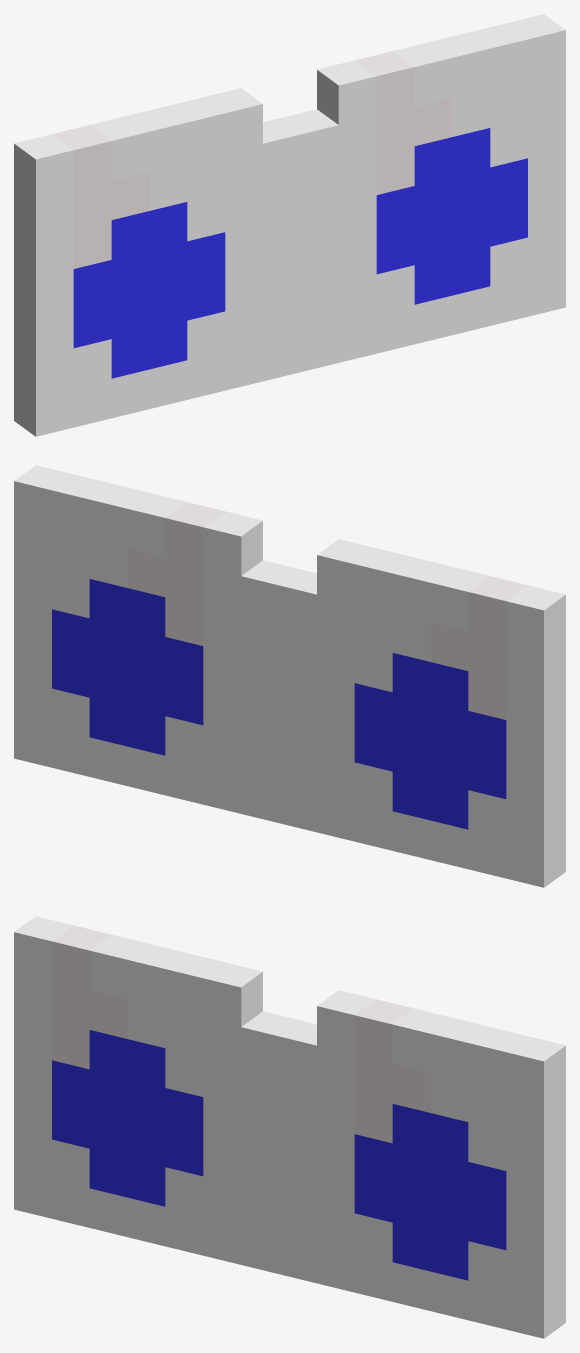
3 renders of one model, top to bottom at view 1: azimuth 30°, elevation 25°; view 2: azimuth 150°, elevation 25°; view 3: azimuth 330°, elevation 25°, orthographic.
Visible parts, largest first — view 1: eye-shapes053, eye-shapes008, eye-shapes007; view 2: eye-shapes053, eye-shapes008, eye-shapes007; view 3: eye-shapes053, eye-shapes008, eye-shapes007.
Boxes of the visible parts, x1,y1,x2,y2 form: eye-shapes053: [14, 14, 565, 436]; eye-shapes008: [73, 128, 527, 378]; eye-shapes007: [52, 51, 452, 268]; eye-shapes053: [14, 465, 565, 887]; eye-shapes008: [52, 579, 506, 829]; eye-shapes007: [127, 502, 527, 719]; eye-shapes053: [14, 916, 565, 1338]; eye-shapes008: [52, 1030, 506, 1280]; eye-shapes007: [52, 925, 430, 1143].
Bounding box in the file's own units: 140 × 70 × 10.
Materials: 3 (3 with a texture image).
